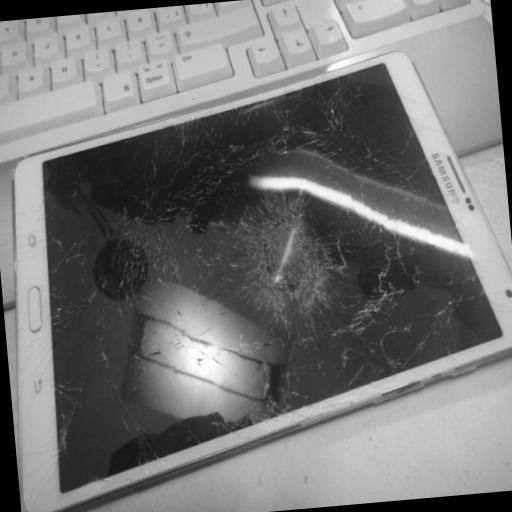phone: (11, 53, 512, 512)
